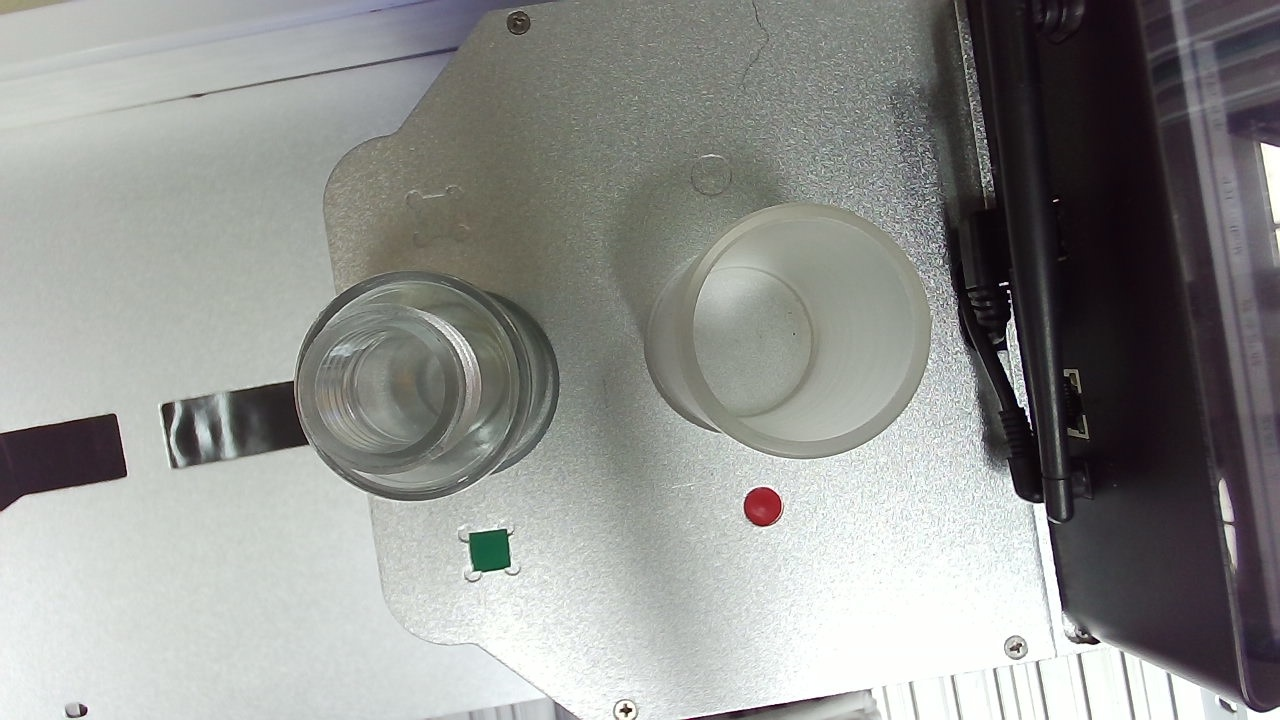XLabel: (672, 110, 740, 179)
YLabel: (1091, 144, 1155, 216)
transparentempty: (474, 191, 900, 612)
